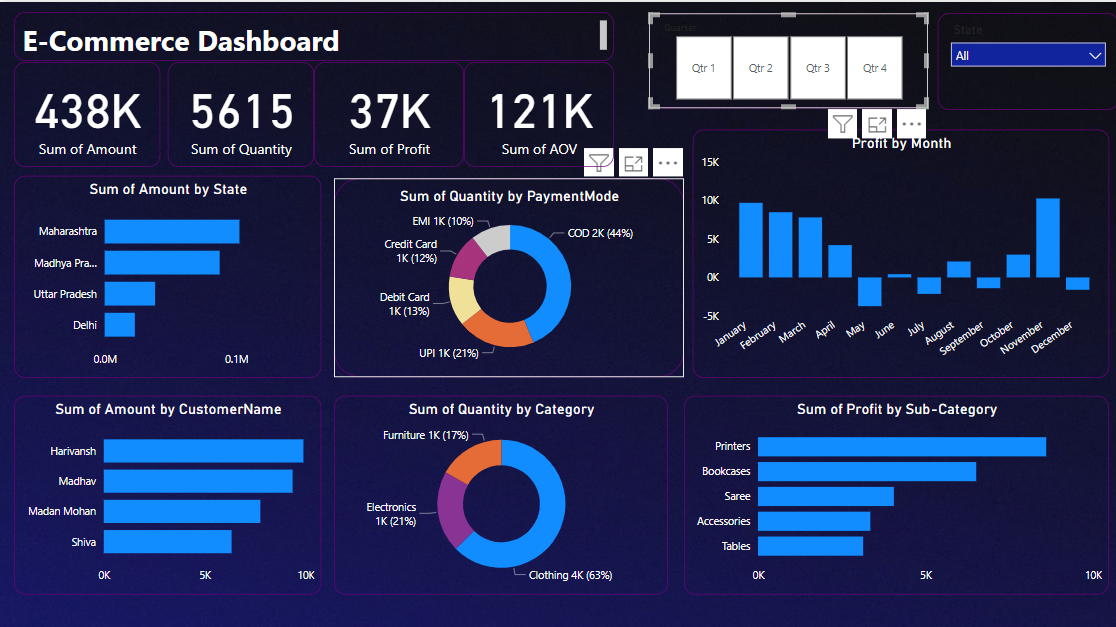

Layout of this report page (visuals, bound fields, positions):
{"tool":"powerbi","page":{"name":"Page 1","canvas":[1280,720],"ordinal":0},"visuals":[{"type":"columnChart","title":"Profit by Month","fields":{"Y":["Details.Profit"],"Category":["Orders.Order Date.Variation.Date Hierarchy.Month"]},"box":[792.9,145.7,475.7,284.3],"z":0},{"type":"textbox","box":[17.1,11.4,685.7,55.7],"z":1000},{"type":"barChart","fields":{"Category":["Details.Sub-Category"],"Y":["Details.Profit"]},"box":[782.9,450,485.7,227.1],"z":2000},{"type":"donutChart","fields":{"Category":["Details.Category"],"Y":["Details.Quantity"]},"box":[382.9,450,381.4,227.1],"z":3000},{"type":"donutChart","fields":{"Y":["Details.Quantity"],"Category":["Details.PaymentMode"]},"box":[382.9,201.4,400,227.1],"z":4000},{"type":"card","fields":{"Values":["Details.Amount"]},"box":[17.1,68.6,167.1,120],"z":5000},{"type":"card","fields":{"Values":["Details.Quantity"]},"box":[192.9,68.6,167.1,120],"z":6000},{"type":"card","fields":{"Values":["Details.Profit"]},"box":[360,68.6,171.4,120],"z":7000},{"type":"card","fields":{"Values":["Details.AOV"]},"box":[531.4,68.6,171.4,120],"z":8000},{"type":"barChart","fields":{"Y":["Details.Amount"],"Category":["Orders.State"]},"box":[17.1,198.6,351.4,231.4],"z":9000},{"type":"barChart","fields":{"Category":["Orders.CustomerName"],"Y":["Details.Amount"]},"box":[17.1,450,351.4,227.1],"z":10000},{"type":"slicer","fields":{"Values":["Orders.Order Date.Variation.Date Hierarchy.Quarter"]},"box":[742.9,12.9,318.6,108.6],"z":11000},{"type":"slicer","fields":{"Values":["Orders.State"]},"box":[1072.9,12.9,207.1,110],"z":12000}]}

Visuals, with their boxes in screenshot pixels (x1, y1, x2, y2), scaled from the page's 1280x720 canvas onto the 1116x627 screenshot:
"Profit by Month" columnChart: box=[691, 127, 1106, 374]
textbox: box=[15, 10, 613, 58]
barChart - Details.Sub-Category x Details.Profit: box=[683, 392, 1106, 590]
donutChart - Details.Category x Details.Quantity: box=[334, 392, 666, 590]
donutChart - Details.Quantity x Details.PaymentMode: box=[334, 175, 683, 373]
card - Details.Amount: box=[15, 60, 161, 164]
card - Details.Quantity: box=[168, 60, 314, 164]
card - Details.Profit: box=[314, 60, 463, 164]
card - Details.AOV: box=[463, 60, 613, 164]
barChart - Details.Amount x Orders.State: box=[15, 173, 321, 374]
barChart - Orders.CustomerName x Details.Amount: box=[15, 392, 321, 590]
slicer - Orders.Order Date.Variation.Date Hierarchy.Quarter: box=[648, 11, 925, 106]
slicer - Orders.State: box=[935, 11, 1115, 107]
